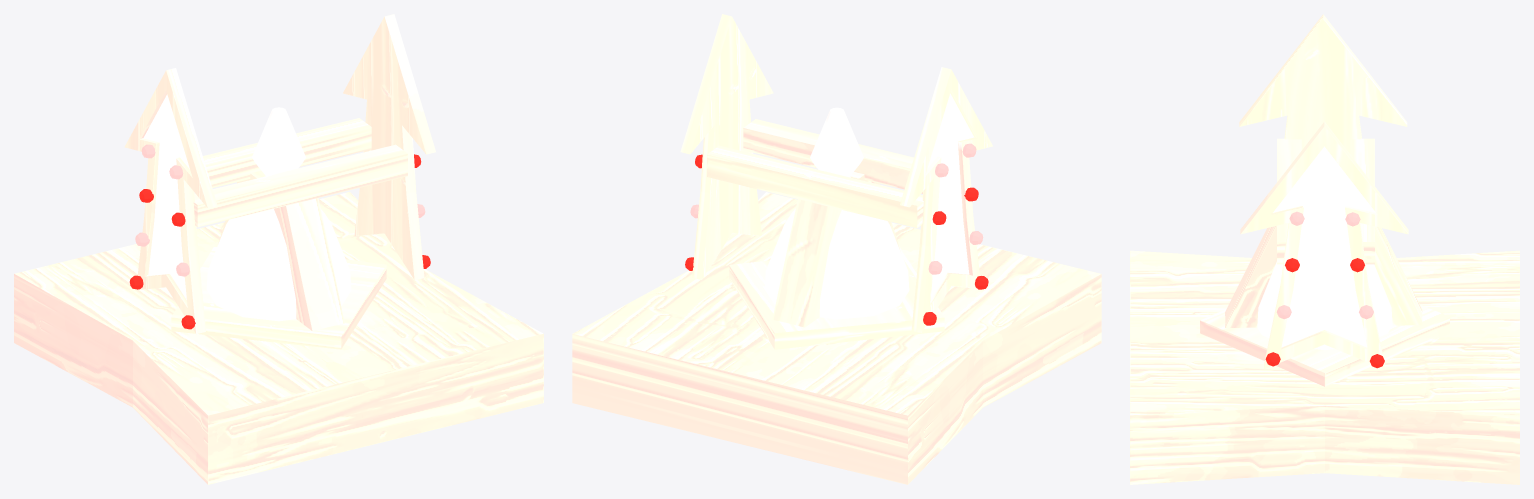
The model's file is GameReadyLaserBase.glb.
3 renders of one model, left to right at view 1: azimuth 30°, elevation 25°; view 2: azimuth 150°, elevation 25°; view 3: azimuth 270°, elevation 25°, orthographic.
Parts seen in each view (by area): view 1: Laserbase, Laserbase.013, Laserbase.004, Laserbase.001, Laserbase.023, Laserbase.002, Laserbase.021, Laserbase.024; view 2: Laserbase, Laserbase.013, Laserbase.004, Laserbase.001, Laserbase.024, Laserbase.002, Laserbase.022, Laserbase.023; view 3: Laserbase, Laserbase.004, Laserbase.013, Laserbase.002, Laserbase.021, Laserbase.022, Laserbase.001, Laserbase.024, Laserbase.023.
Part boxes in pixels (x1,y1,x2,y2): Laserbase: [14, 192, 543, 484]; Laserbase.013: [124, 68, 217, 334]; Laserbase.004: [343, 14, 435, 280]; Laserbase.001: [206, 107, 351, 321]; Laserbase.023: [193, 144, 407, 227]; Laserbase.002: [171, 242, 386, 349]; Laserbase.021: [274, 198, 344, 331]; Laserbase.024: [203, 118, 371, 187]; Laserbase: [572, 192, 1101, 484]; Laserbase.013: [900, 67, 992, 332]; Laserbase.004: [680, 14, 773, 279]; Laserbase.001: [764, 107, 909, 319]; Laserbase.024: [707, 145, 923, 227]; Laserbase.002: [729, 246, 944, 349]; Laserbase.022: [772, 199, 841, 327]; Laserbase.023: [743, 119, 922, 193]; Laserbase: [1130, 250, 1519, 484]; Laserbase.004: [1240, 121, 1408, 369]; Laserbase.013: [1239, 14, 1407, 153]; Laserbase.002: [1200, 305, 1449, 386]; Laserbase.021: [1225, 226, 1276, 327]; Laserbase.022: [1374, 226, 1422, 325]; Laserbase.001: [1257, 262, 1392, 350]; Laserbase.024: [1350, 138, 1374, 264]; Laserbase.023: [1277, 138, 1301, 264].
Bounding box in the file's own units: 3.42 × 3.31 × 3.42.
Materials: 2 (2 with a texture image).
